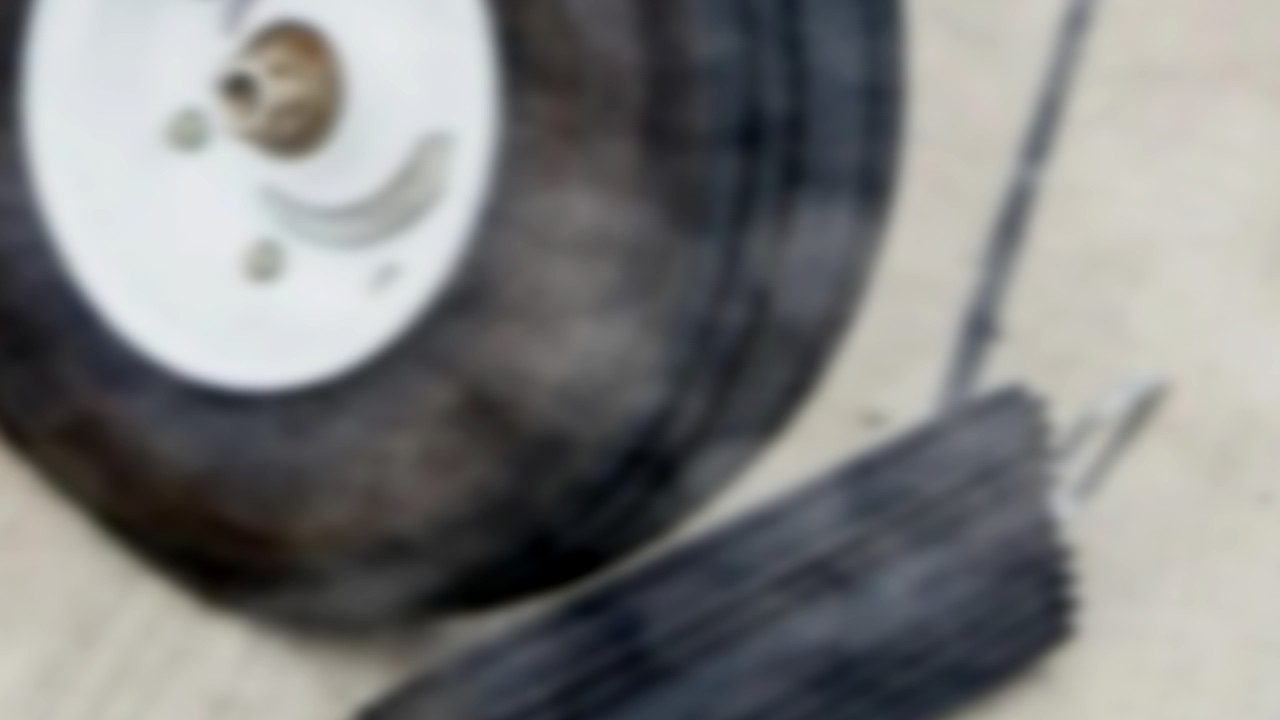chock: (200, 265, 1246, 720)
wheel: (0, 0, 1052, 689)
